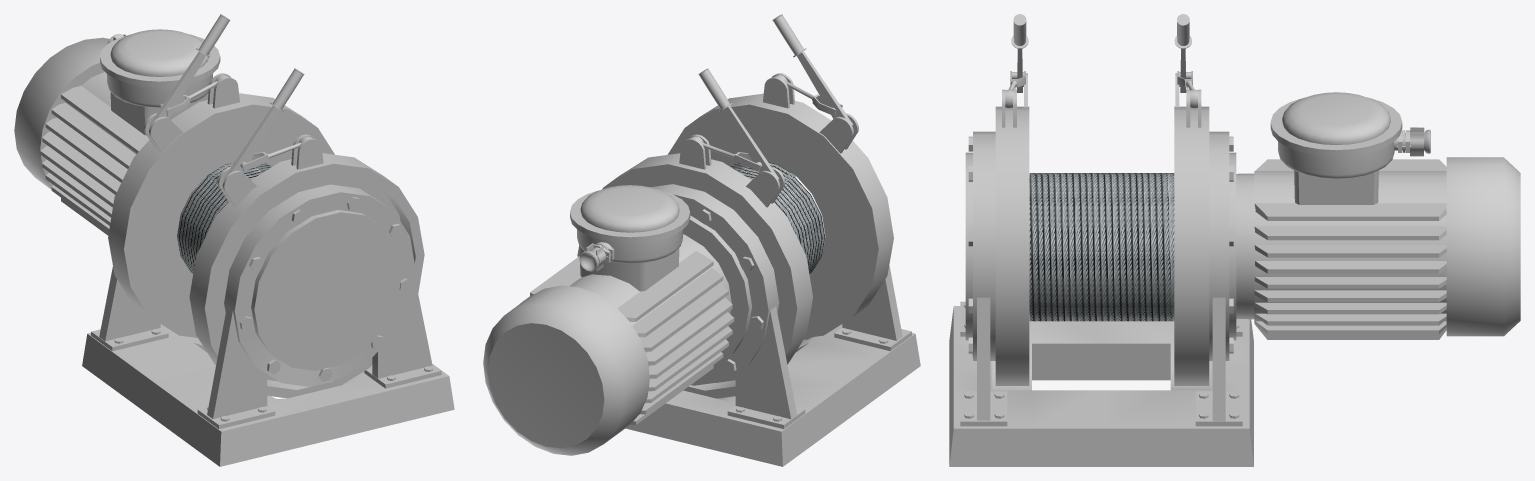
The model's file is HJ_MKHZ_006.FBX.
3 views of the same model, side by side, from view 1: azimuth 30°, elevation 25°; view 2: azimuth 150°, elevation 25°; view 3: azimuth 270°, elevation 25° (orthographic). The views are drawn at different scales.
Parts seen in each view (by area): view 1: HJ_MKHZ_006, HJ_MKHZ_007; view 2: HJ_MKHZ_006, HJ_MKHZ_007; view 3: HJ_MKHZ_006, HJ_MKHZ_007.
Part boxes in pixels (<box>): HJ_MKHZ_006: <box>14,14,454,466</box>; HJ_MKHZ_007: <box>177,162,271,273</box>; HJ_MKHZ_006: <box>483,14,920,466</box>; HJ_MKHZ_007: <box>730,162,825,273</box>; HJ_MKHZ_006: <box>949,14,1520,466</box>; HJ_MKHZ_007: <box>1029,173,1174,321</box>.
Size of the model in its own units: 0.4817 by 0.6835 by 0.9196.
